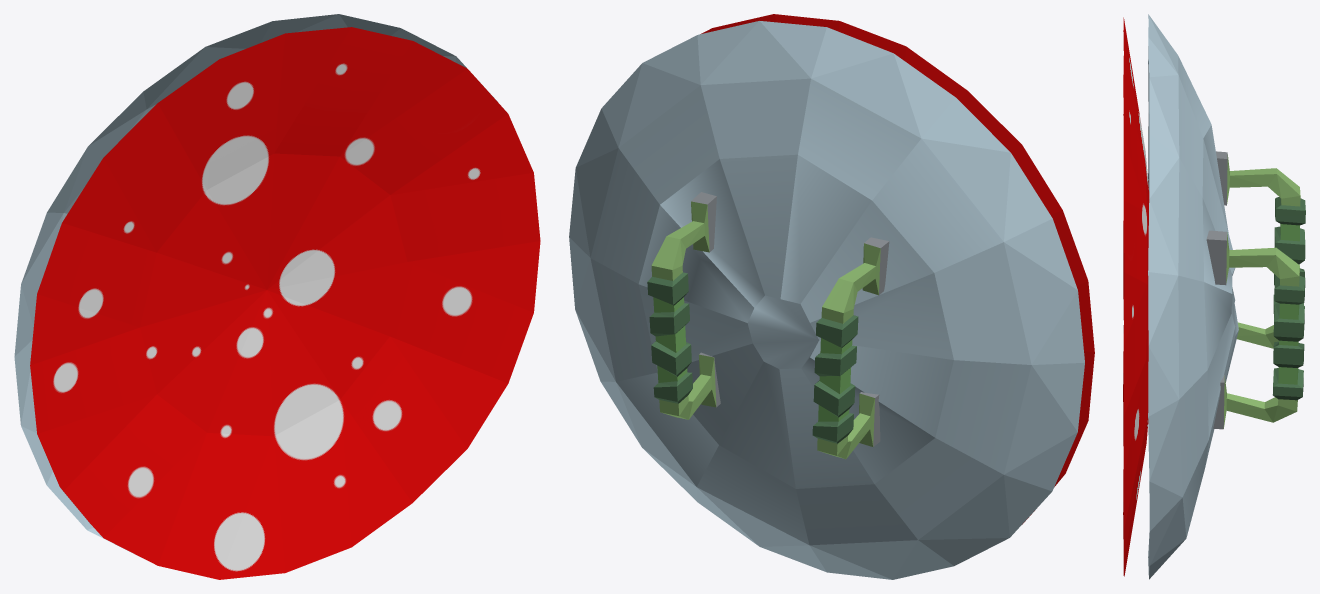
File: Shield_Mushroom.fbx
3 renders of one model, left to right at view 1: azimuth 30°, elevation 25°; view 2: azimuth 150°, elevation 25°; view 3: azimuth 270°, elevation 25°, orthographic. The views are drawn at different scales.
Visible parts, largest first — view 1: Shield_Mushroom; view 2: Shield_Mushroom; view 3: Shield_Mushroom.
Boxes of the visible parts, box(x1,y1,x2,y2) form: Shield_Mushroom: box(14, 14, 540, 579); Shield_Mushroom: box(569, 14, 1094, 579); Shield_Mushroom: box(1123, 14, 1305, 579).
Bounding box in the file's own units: 74.03 × 74.76 × 23.82.
